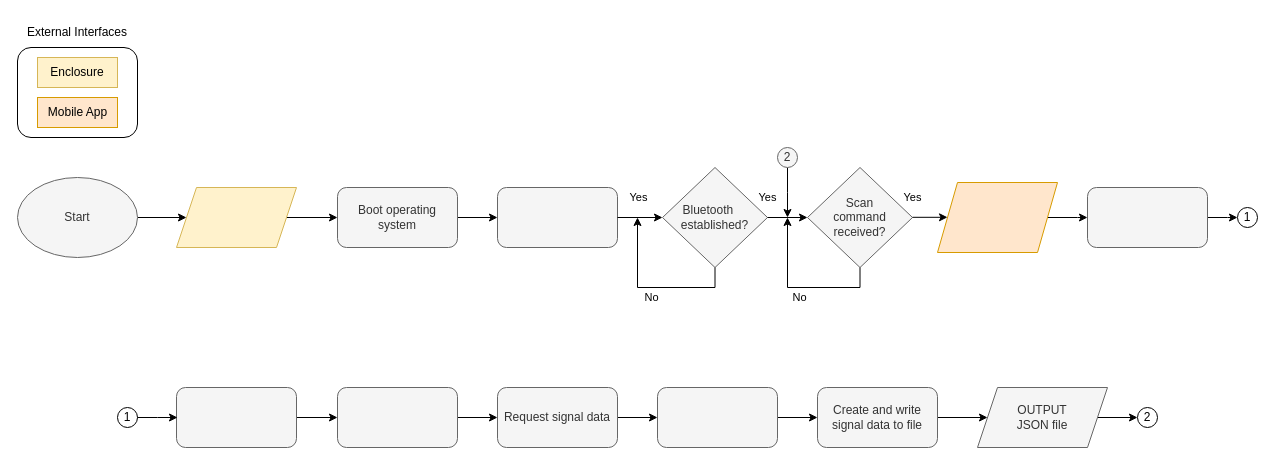
The diagram is 1275 pixels wide and 465 high, and some of its shapes have lost their labels. Each missing label, with the centre of its shape:
"INPUT Power on (button press)" belongs at point (236, 217).
"INPUT propertyName poiName group" belongs at point (997, 217).
"Organize signal data for writing to file" belongs at point (717, 417).
"Request signal counts" belongs at point (397, 417).
"Send scan signal to modules" belongs at point (236, 417).
"Setup I2C interface" belongs at point (1147, 217).
"Start Python Bluetooth server" belongs at point (557, 217).
